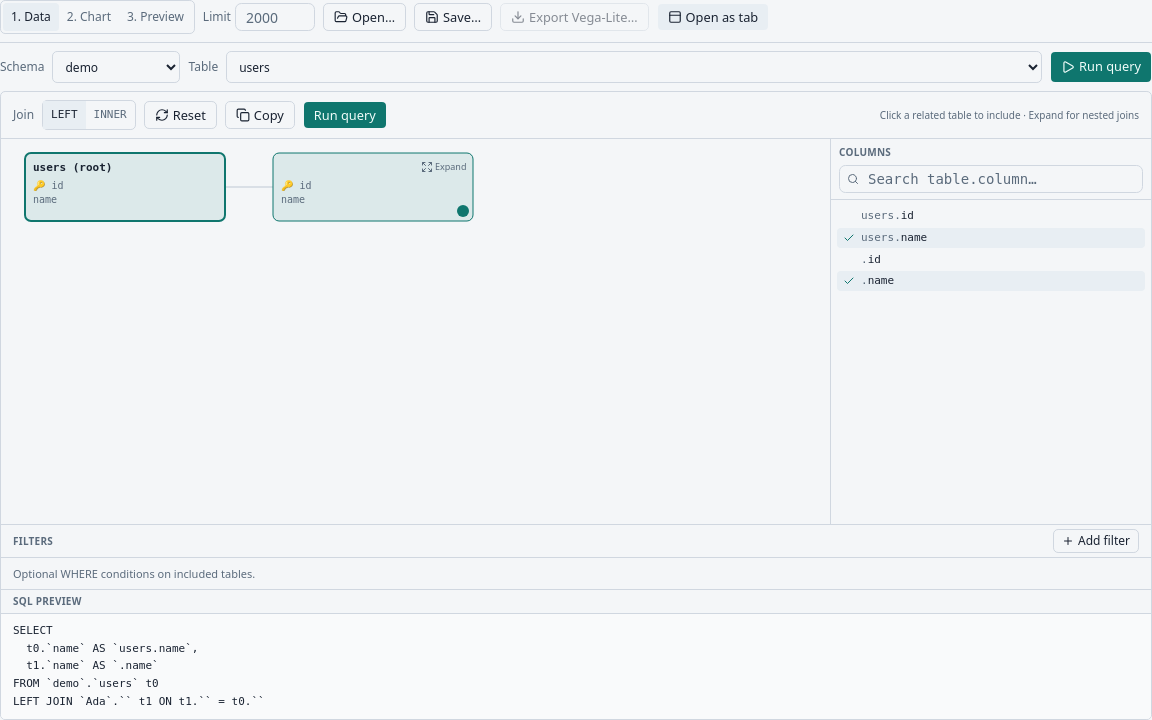
Test: VisualizeData › renders schema/table pickers and chart step prompt before run
Expected: the dropdown with test id "visualize-schema" is shown, x1=52 y1=51 x2=180 y2=83
Expected: the dropdown with test id "visualize-table" is shown, x1=226 y1=51 x2=1042 y2=83
Click the button "2. Chart" at (89, 17), box x1=59 y1=3 x2=119 y2=31
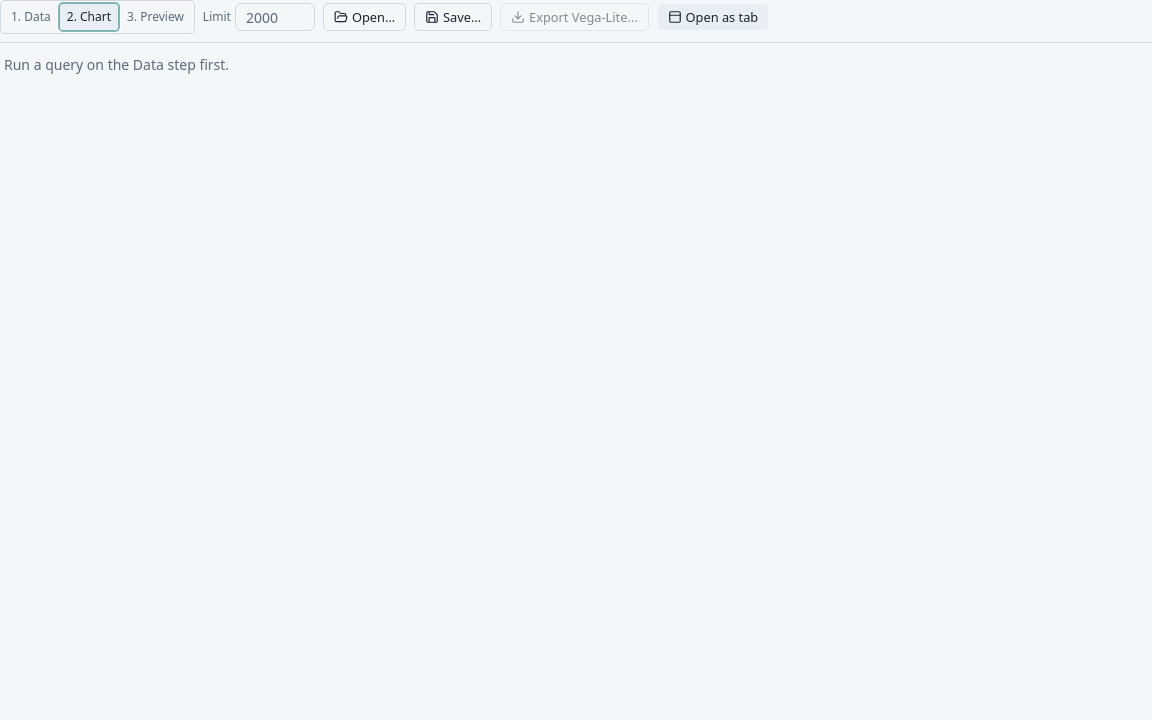
Expected: the text "Run a query on the Data step first." is shown, x1=4 y1=55 x2=229 y2=74
